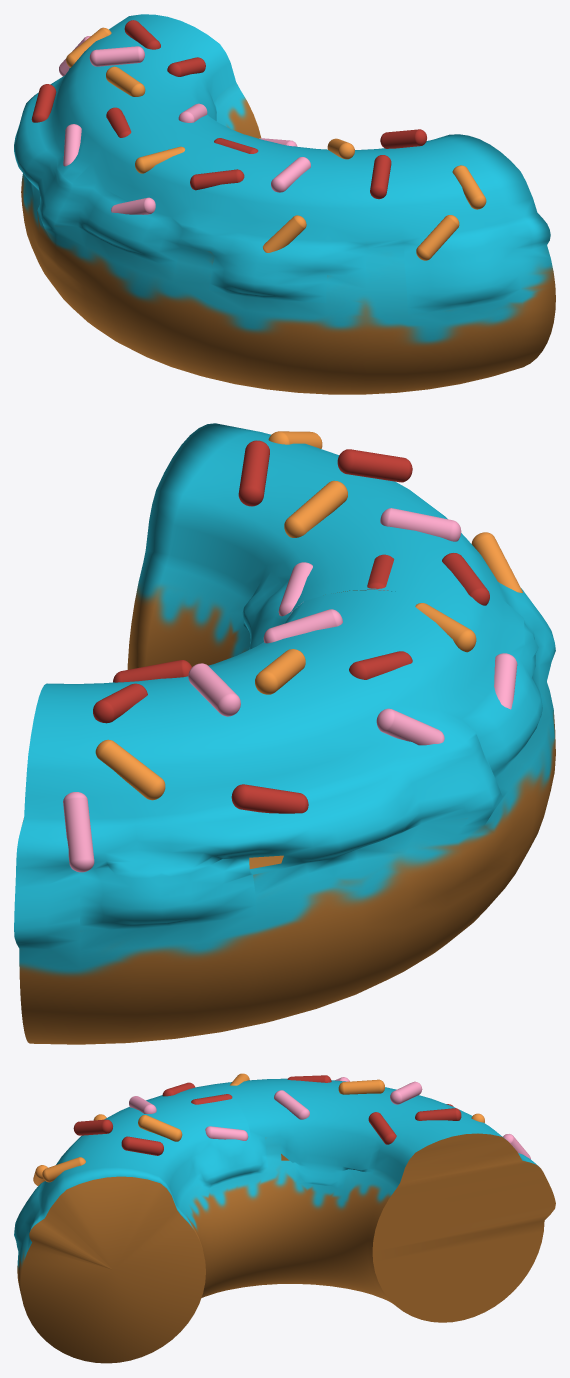
The model's file is donut1_LOD0.fbx.
3 renders of one model, top to bottom at view 1: azimuth 30°, elevation 25°; view 2: azimuth 150°, elevation 25°; view 3: azimuth 270°, elevation 25°, orthographic. The views are drawn at different scales.
Visible parts, largest first — view 1: pSphere45; view 2: pSphere45; view 3: pSphere45.
Boxes of the visible parts, x1=… form: pSphere45: x1=14, y1=14, x2=555, y2=394; pSphere45: x1=14, y1=423, x2=555, y2=1044; pSphere45: x1=14, y1=1073, x2=555, y2=1363.
Size of the model in its own units: 140 by 95.03 by 229.
